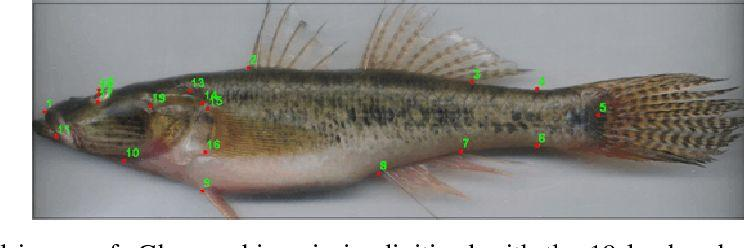Goby: (37, 0, 736, 219)
